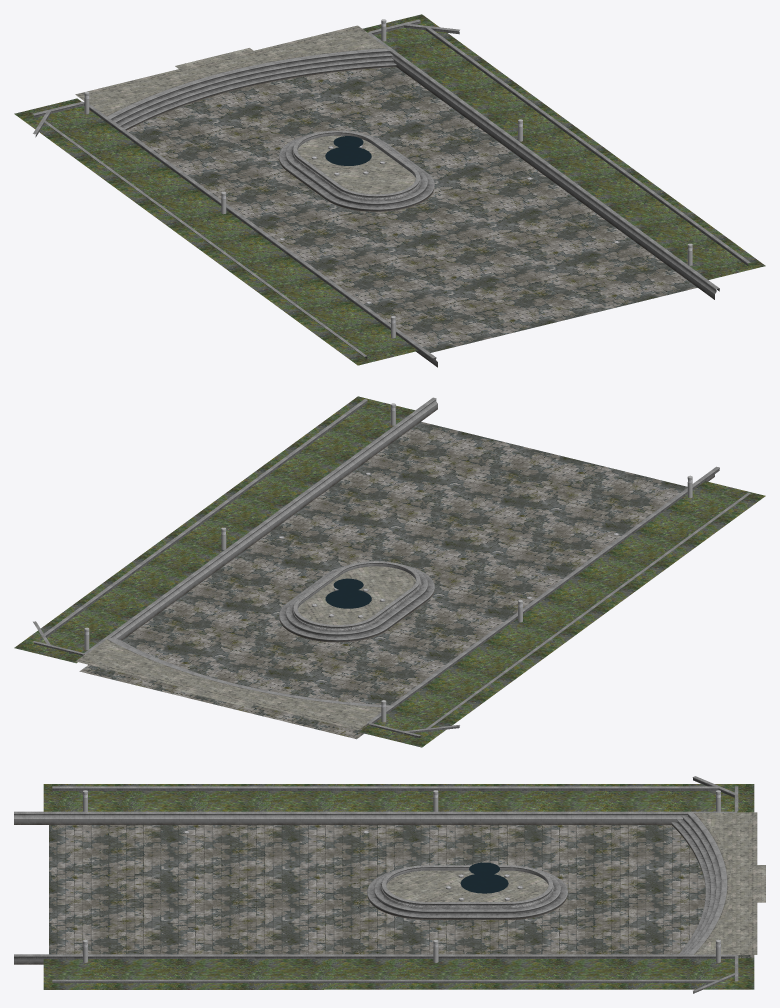
The picture shows the model from 3 angles, top to bottom: view 1: azimuth 30°, elevation 25°; view 2: azimuth 150°, elevation 25°; view 3: azimuth 270°, elevation 25°; orthographic projection. The views are drawn at different scales.
Visible parts, largest first — view 1: LOD_1_Group_0_Sub_2__entrancetail01, LOD_1_Group_0_Sub_3__m02_grass01_Mat, LOD_1_Group_0_Sub_1__m02_entrancetile03_Mat, LOD_1_Group_0_Sub_6__m02_entrancetile02_Mat, LOD_1_Group_0_Sub_4__m02_water, LOD_1_Group_0_Sub_5__m02_outsidelightA_A_Mat; view 2: LOD_1_Group_0_Sub_2__entrancetail01, LOD_1_Group_0_Sub_3__m02_grass01_Mat, LOD_1_Group_0_Sub_1__m02_entrancetile03_Mat, LOD_1_Group_0_Sub_6__m02_entrancetile02_Mat, LOD_1_Group_0_Sub_4__m02_water, LOD_1_Group_0_Sub_5__m02_outsidelightA_A_Mat; view 3: LOD_1_Group_0_Sub_2__entrancetail01, LOD_1_Group_0_Sub_3__m02_grass01_Mat, LOD_1_Group_0_Sub_1__m02_entrancetile03_Mat, LOD_1_Group_0_Sub_6__m02_entrancetile02_Mat, LOD_1_Group_0_Sub_4__m02_water, LOD_1_Group_0_Sub_5__m02_outsidelightA_A_Mat.
Boxes of the visible parts, box(x1,y1,x2,y2) form: LOD_1_Group_0_Sub_2__entrancetail01: box(127, 67, 697, 352); LOD_1_Group_0_Sub_3__m02_grass01_Mat: box(14, 14, 765, 365); LOD_1_Group_0_Sub_1__m02_entrancetile03_Mat: box(32, 19, 750, 367); LOD_1_Group_0_Sub_6__m02_entrancetile02_Mat: box(75, 25, 415, 194); LOD_1_Group_0_Sub_4__m02_water: box(325, 136, 371, 165); LOD_1_Group_0_Sub_5__m02_outsidelightA_A_Mat: box(84, 19, 692, 338); LOD_1_Group_0_Sub_2__entrancetail01: box(79, 421, 687, 739); LOD_1_Group_0_Sub_3__m02_grass01_Mat: box(14, 396, 765, 747); LOD_1_Group_0_Sub_1__m02_entrancetile03_Mat: box(33, 397, 750, 737); LOD_1_Group_0_Sub_6__m02_entrancetile02_Mat: box(75, 566, 415, 730); LOD_1_Group_0_Sub_4__m02_water: box(325, 578, 371, 608); LOD_1_Group_0_Sub_5__m02_outsidelightA_A_Mat: box(84, 403, 692, 722); LOD_1_Group_0_Sub_2__entrancetail01: box(49, 825, 754, 958); LOD_1_Group_0_Sub_3__m02_grass01_Mat: box(43, 784, 754, 989); LOD_1_Group_0_Sub_1__m02_entrancetile03_Mat: box(14, 776, 738, 993); LOD_1_Group_0_Sub_6__m02_entrancetile02_Mat: box(386, 812, 765, 954); LOD_1_Group_0_Sub_4__m02_water: box(460, 862, 508, 893); LOD_1_Group_0_Sub_5__m02_outsidelightA_A_Mat: box(83, 790, 720, 962).
Size of the model in its own units: 2963 by 185 by 4368.
